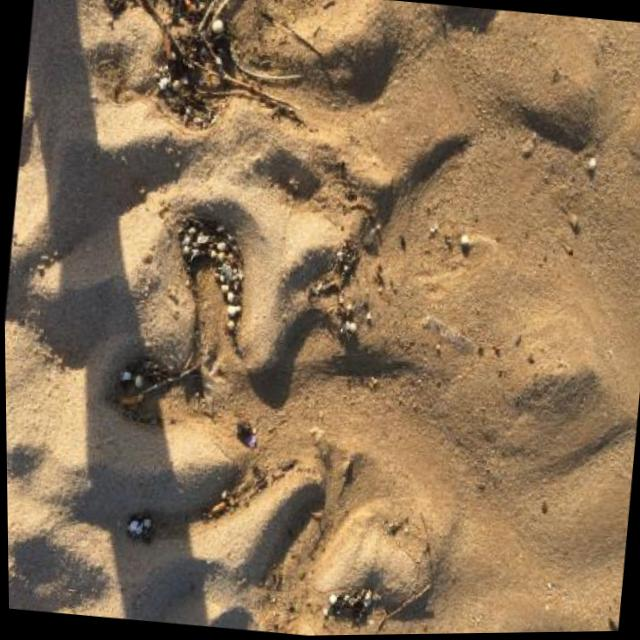foam: (119, 398, 135, 405)
